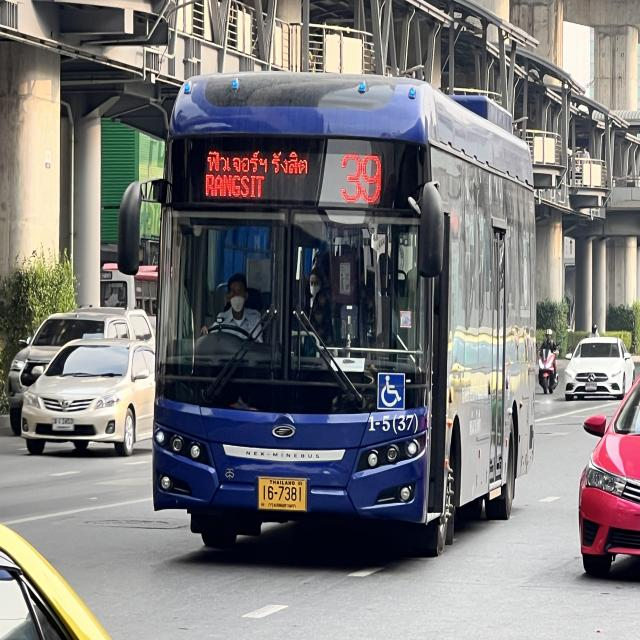Bus-Line-Number: (334, 149, 388, 209)
Destination-Sign-Normal: (203, 148, 312, 205)
TSB-Bus: (116, 62, 545, 568)
